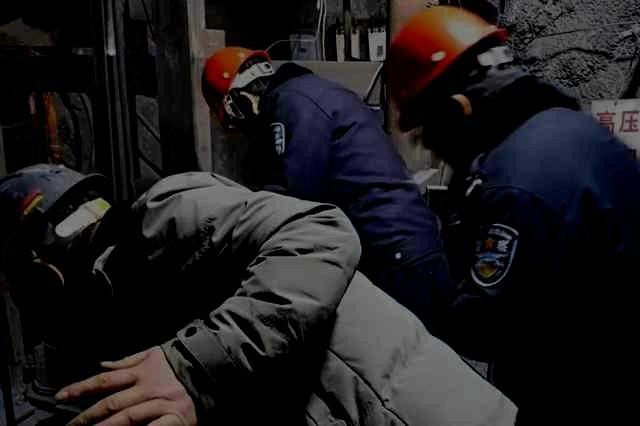helmet: (383, 5, 528, 178), (1, 163, 117, 345), (200, 45, 275, 138)
